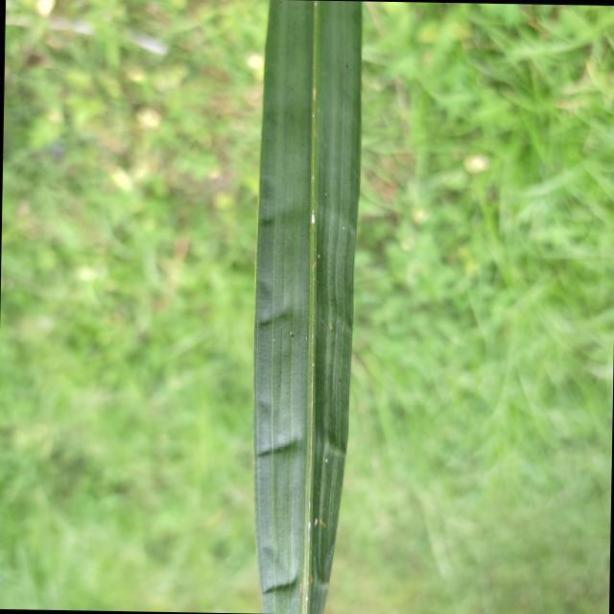Boron: (253, 0, 361, 614)
